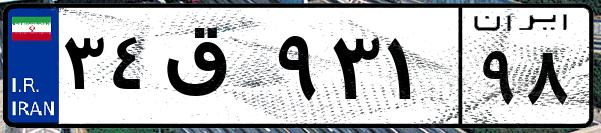1: (385, 28, 445, 110)
3: (330, 28, 385, 110), (57, 26, 110, 100)
4: (110, 28, 158, 98)
8: (525, 38, 570, 115)
9: (270, 28, 330, 110), (475, 38, 525, 113)
ق: (158, 20, 270, 120)
